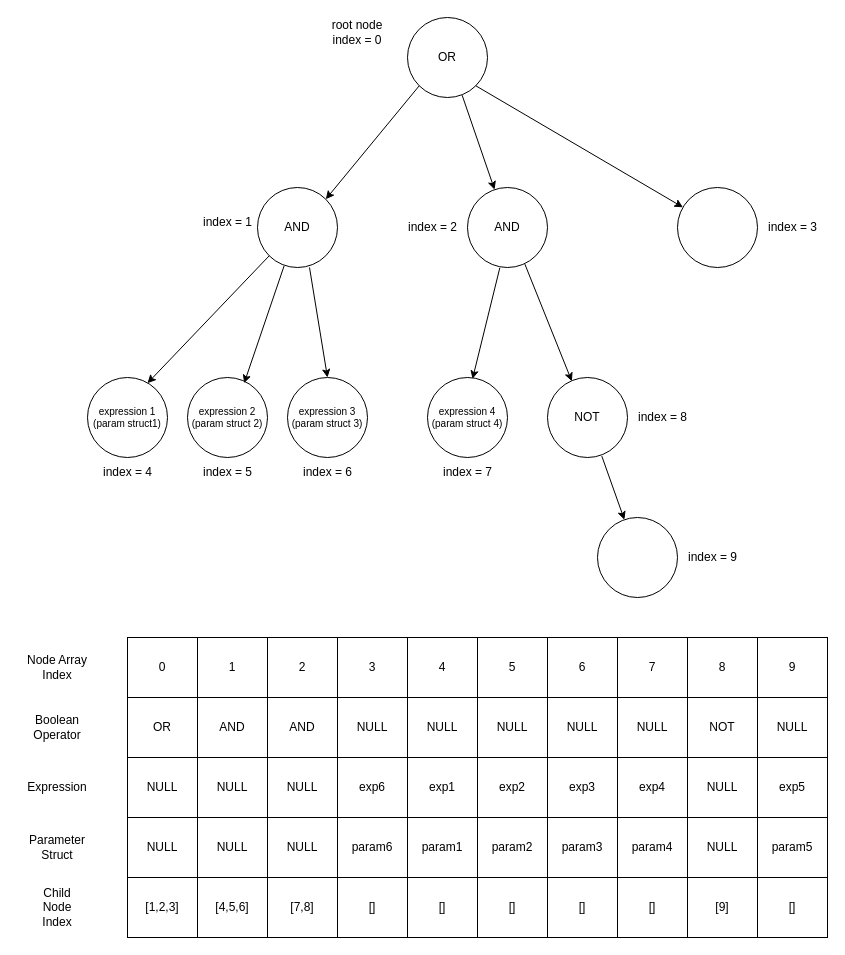
Some shapes in this 845 by 955 pixel diagram are drawn without their labels. Each missing label, with the centre of its shape:
"expression 5 (param struct 5)" belongs at point (637, 557).
"expression 6 (param struct 6)" belongs at point (717, 227).
